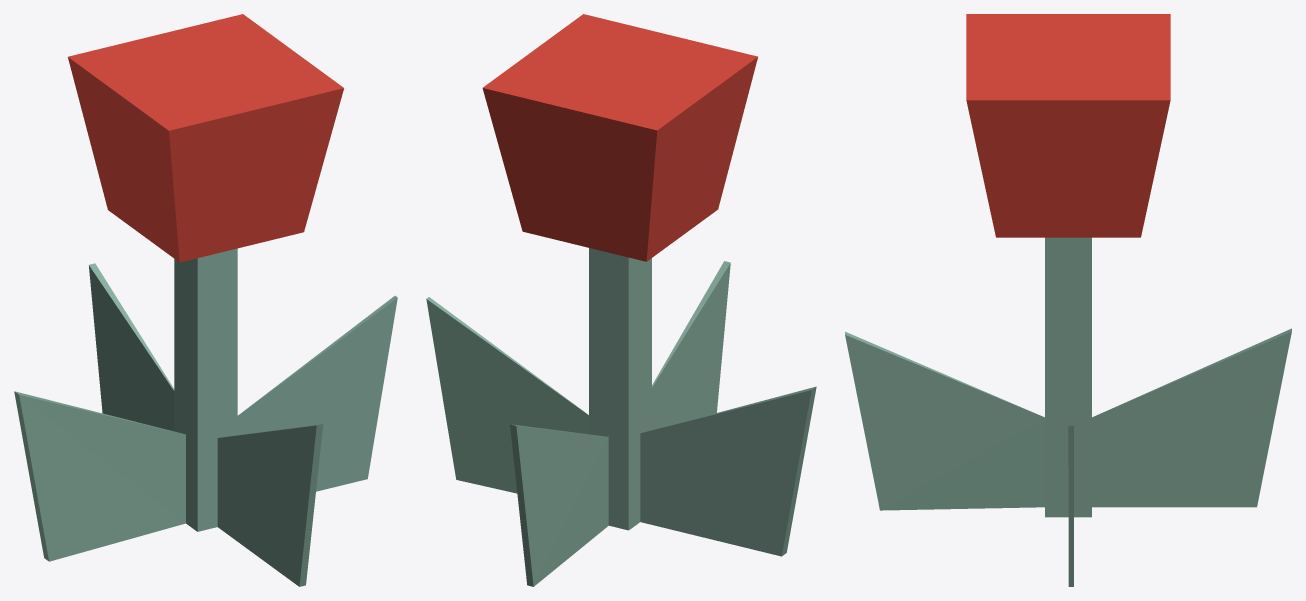
Rendered from Nature Flower 6.fbx.
3 renders of one model, left to right at view 1: azimuth 30°, elevation 25°; view 2: azimuth 150°, elevation 25°; view 3: azimuth 270°, elevation 25°, orthographic.
Parts seen in each view (by area): view 1: Nature Flower 6; view 2: Nature Flower 6; view 3: Nature Flower 6.
Boxes of the visible parts, x1=… form: Nature Flower 6: x1=14, y1=14, x2=397, y2=586; Nature Flower 6: x1=426, y1=14, x2=816, y2=586; Nature Flower 6: x1=845, y1=14, x2=1291, y2=586.
Size of the model in its own units: 48.6 by 54 by 48.59.
